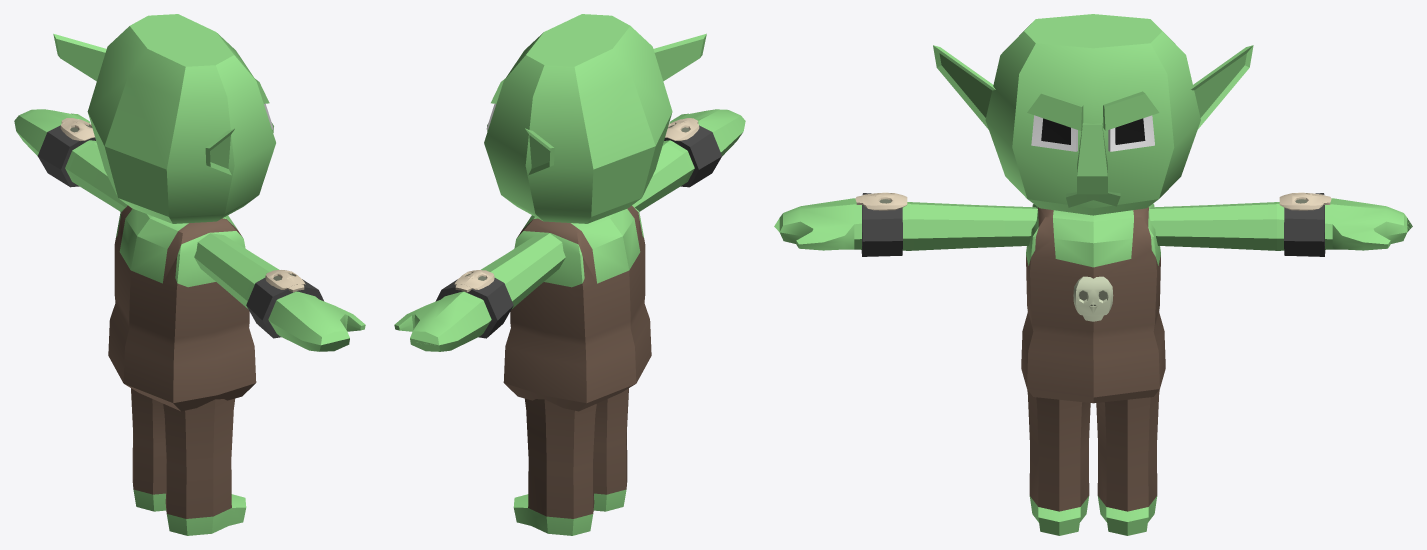
The model's file is Goblin3.fbx.
3 views of the same model, side by side, from view 1: azimuth 30°, elevation 25°; view 2: azimuth 150°, elevation 25°; view 3: azimuth 270°, elevation 25° (orthographic). The views are drawn at different scales.
Parts seen in each view (by area): view 1: Plane.014; view 2: Plane.014; view 3: Plane.014.
Part boxes in pixels (bbox=[...]): Plane.014: bbox=[14, 14, 365, 535]; Plane.014: bbox=[394, 14, 745, 535]; Plane.014: bbox=[774, 14, 1412, 535].
Bounding box in the file's own units: 428 × 1192 × 1430.
